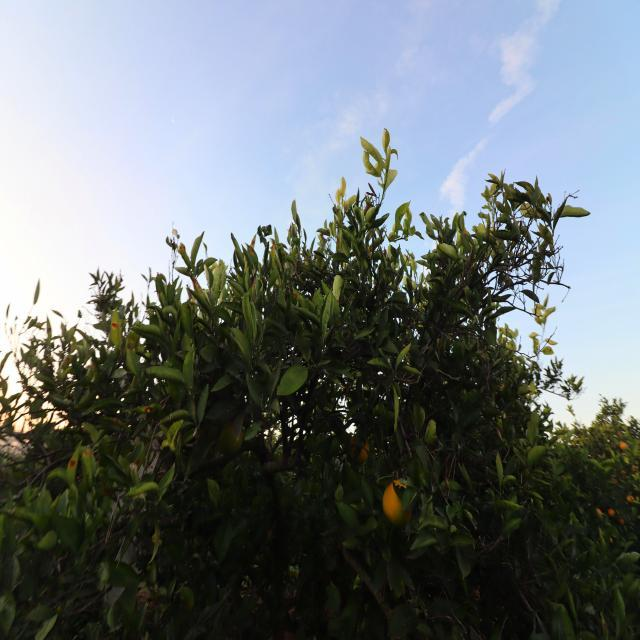Jeruk Belum Matang: (220, 425, 246, 454)
Jeruk Sudah Matang: (382, 479, 412, 524), (346, 437, 372, 462)
